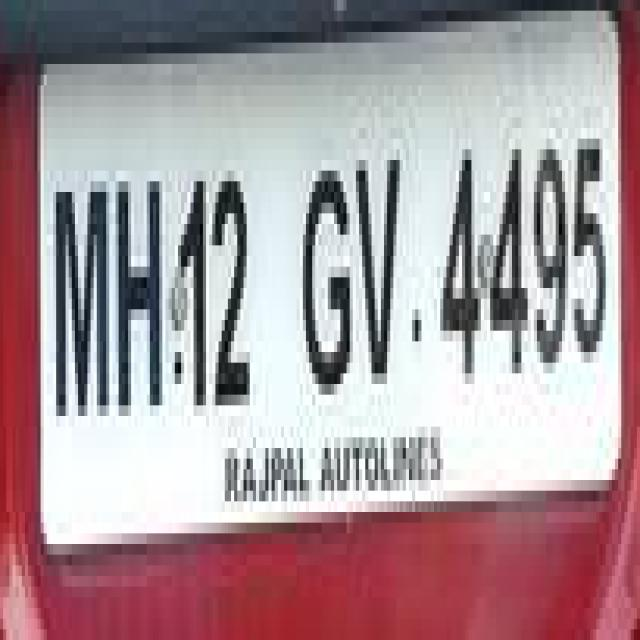plate: (35, 32, 628, 523)
